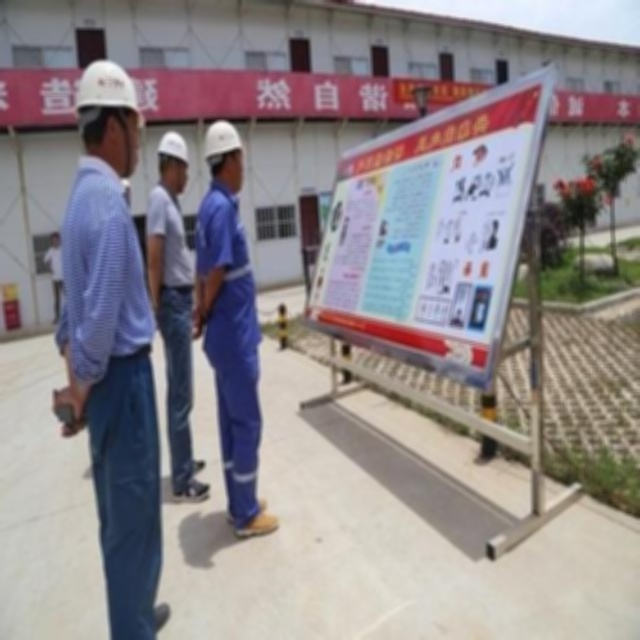Con_Casco: (204, 120, 245, 192), (158, 130, 189, 197)
